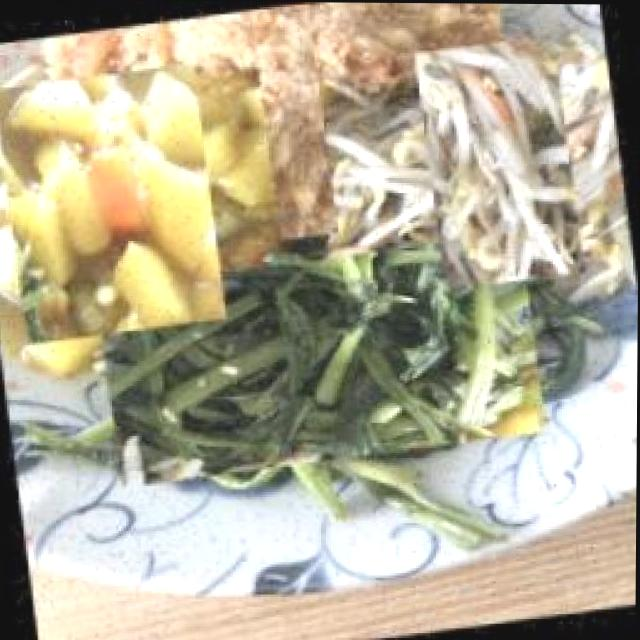curry: (0, 70, 240, 331)
fried_chicken: (158, 1, 412, 164)
mung_bean_sprouts: (391, 52, 608, 269)
water_spinach: (89, 226, 549, 491)
